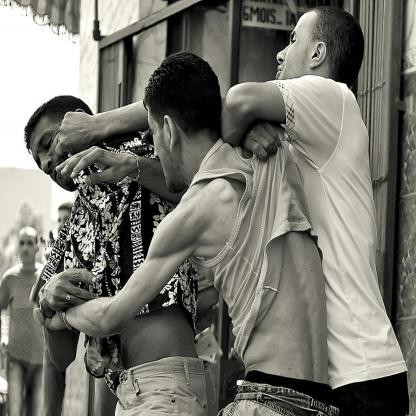face: (30, 116, 86, 191), (277, 12, 317, 82), (150, 111, 184, 193), (20, 234, 37, 262), (59, 212, 71, 237)
